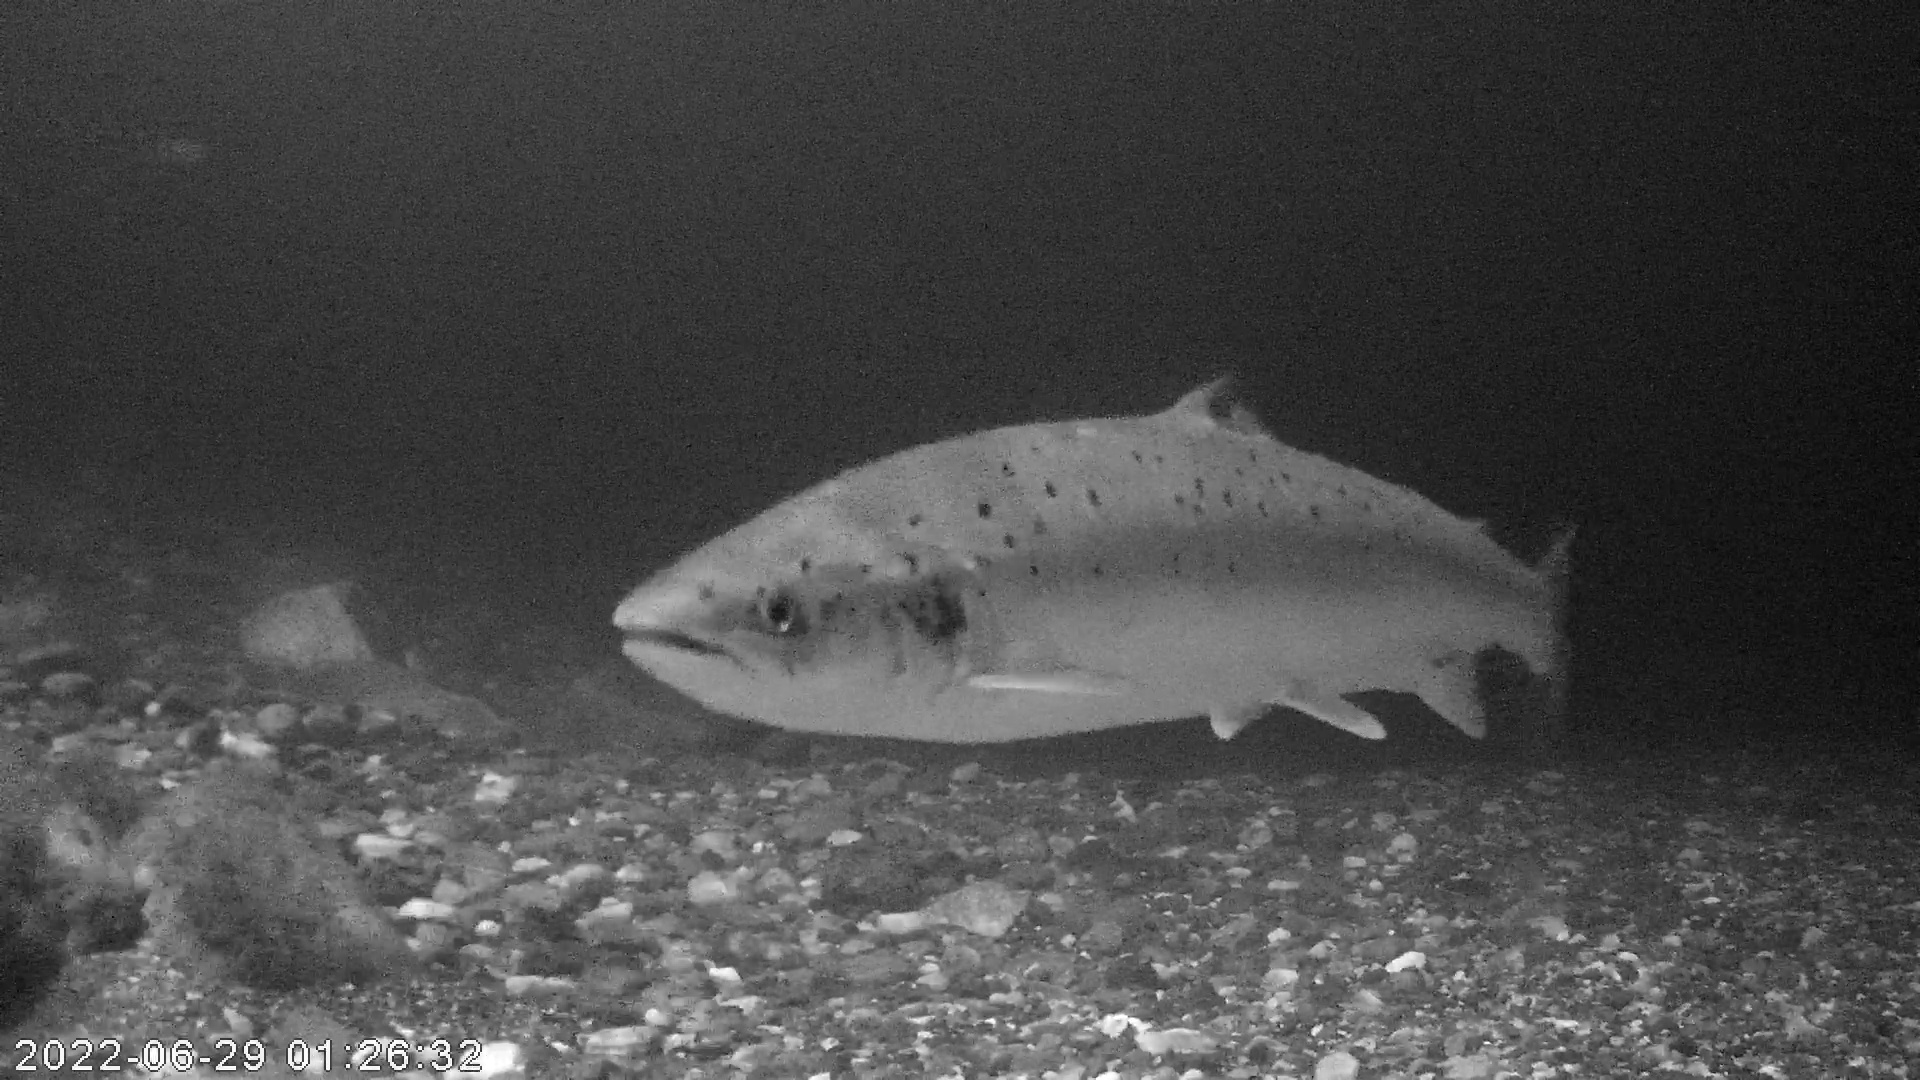salmon: (600, 355, 1582, 756)
